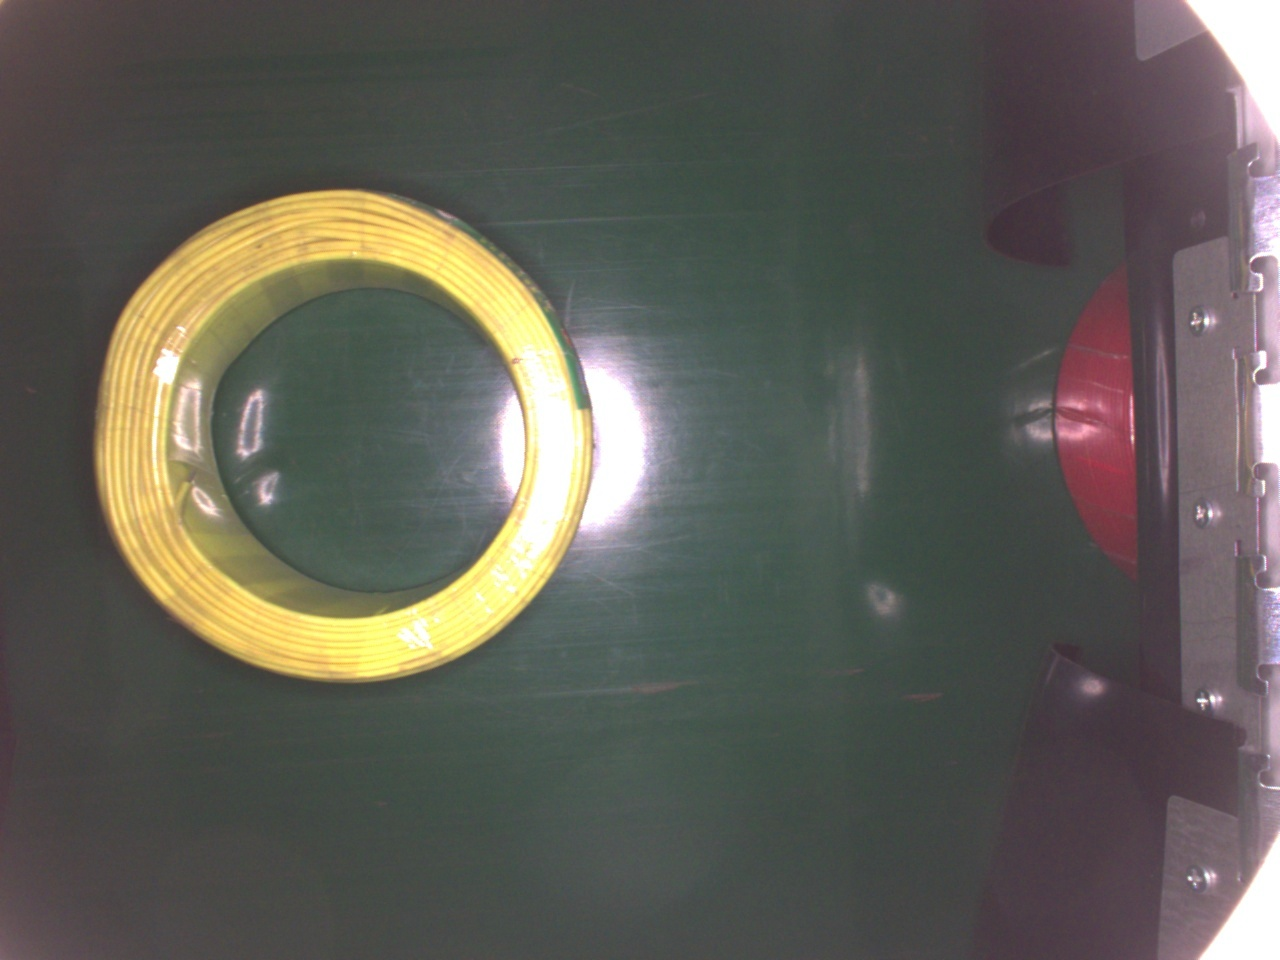yellow: (88, 179, 598, 687)
